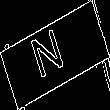N_SE: (34, 24, 76, 86)
